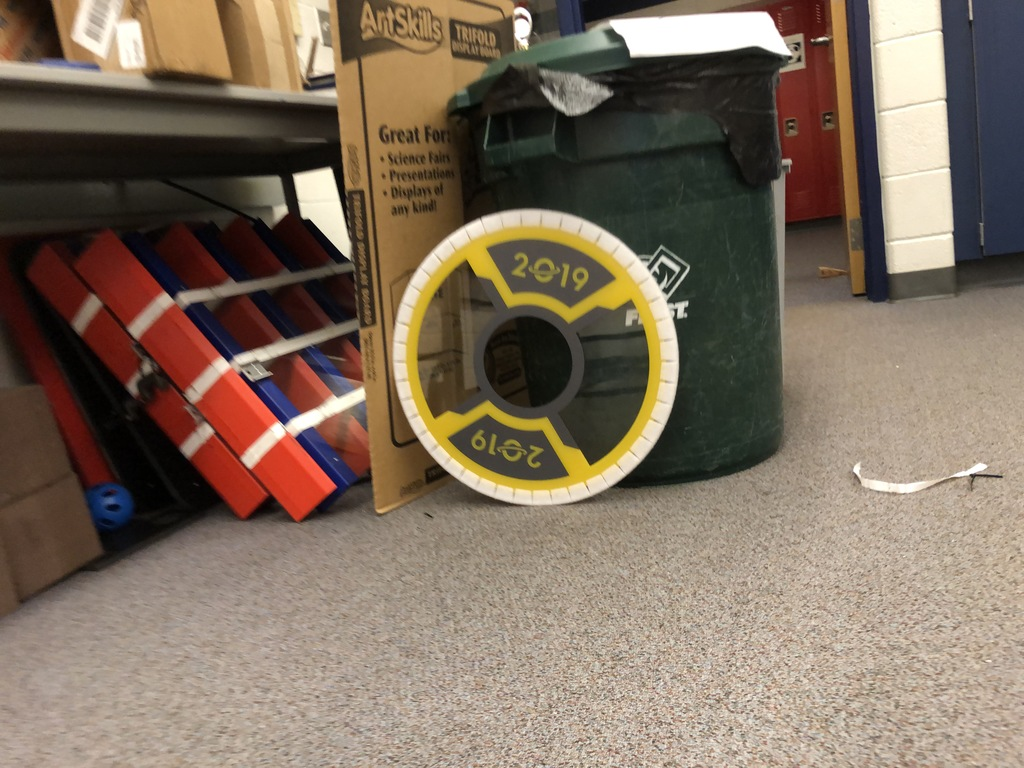hatch_panel: (379, 201, 711, 524)
